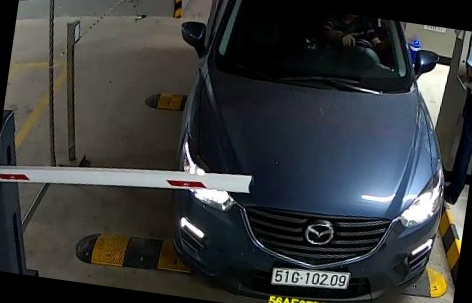plate: (263, 260, 354, 296)
